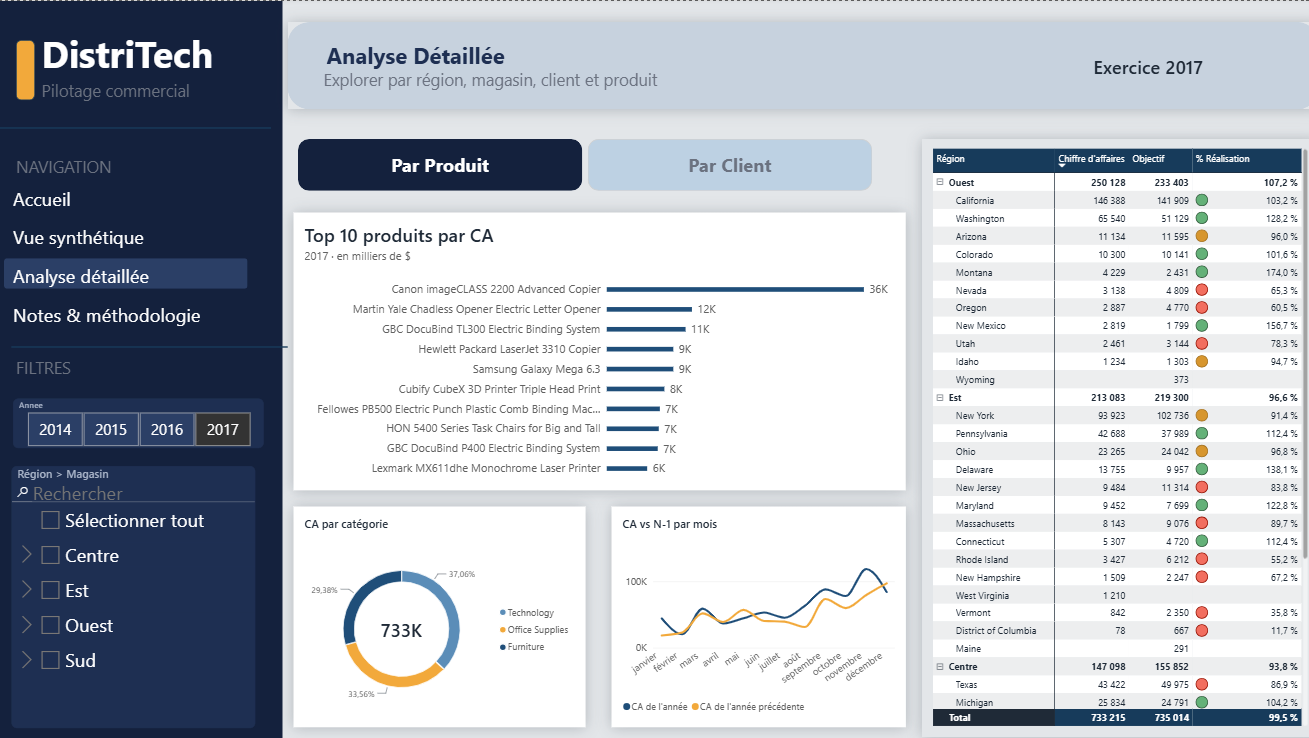

What the dashboard file says about the page in this screenshot:
{"tool":"powerbi","page":{"name":"Analyse détaillée","canvas":[1920,1080],"ordinal":2},"visuals":[{"type":"shape","box":[0,0,416.7,1080],"z":0,"group":"g1"},{"type":"group","id":"g1","title":" Barre latérale","box":[0,0,423.3,1080],"z":1000},{"type":"shape","box":[423.3,30,1496.7,126.7],"z":1500},{"type":"textbox","box":[66.7,40,296.7,93.3],"z":2000,"group":"g1"},{"type":"textbox","box":[476.1,98.9,582,43],"z":2000},{"type":"textbox","box":[481.1,55.9,360,50],"z":3000},{"type":"textbox","box":[67.5,112.5,265,42.5],"z":3000,"group":"g1"},{"type":"shape","box":[30.7,55.9,27.4,87.4],"z":4000,"group":"g1"},{"type":"slicer","fields":{"Values":["Dim_Magasins.Region","Dim_Magasins.Etat"]},"box":[23.3,673.3,353.3,380],"z":4000},{"type":"shape","box":[0,156.2,400,55.1],"z":5000,"group":"g1"},{"type":"textbox","box":[30,223.3,153.3,33.3],"z":6000,"group":"g1"},{"type":"clusteredBarChart","title":"Top 10 produits par CA","fields":{"Category":["Dim_Produits.Nom_Produit"],"Y":["_Mesures.CA_Total"]},"box":[432.5,307.5,887.5,402.5],"z":6000},{"type":"bookmarkNavigator","box":[440,200,832.5,75],"z":7000},{"type":"pageNavigator","box":[13.3,260,353.3,213.3],"z":7000,"group":"g1"},{"type":"pivotTable","fields":{"Rows":["Dim_Magasins.Region","Dim_Magasins.Etat"],"Values":["_Mesures.CA_Total","_Mesures.Objectif_CA_Total","_Mesures.Pct_Realisation"]},"box":[1343.3,200,576.7,866.7],"z":8000},{"type":"textbox","box":[30.7,516,160,42.5],"z":8000,"group":"g1"},{"type":"slicer","fields":{"Values":["Dim_Date.Annee"]},"box":[26.7,576.7,363.3,72],"z":9000,"group":"g1"},{"type":"donutChart","title":"CA par catégorie","fields":{"Category":["Dim_Produits.Categorie"],"Y":["_Mesures.CA_Total"]},"box":[433.3,733.3,423.3,320],"z":9000},{"type":"shape","box":[23.3,473.3,400,55.1],"z":10000,"group":"g1"},{"type":"lineChart","title":"CA vs N-1 par mois","fields":{"Category":["Dim_Date.Mois"],"Y":["_Mesures.CA_Total","_Mesures.CA_N_1"]},"box":[893.3,733.3,426.7,320],"z":10000},{"type":"cardVisual","fields":{"Data":["_Mesures.Contexte_Filtres"]},"box":[1576.7,56.7,226.7,76.7],"z":11000}]}

Visuals, with their boxes on the page's 1920x1080 design canvas (x1, y1, x2, y2). These are canvas units, not pixel positions in the 1309x738 screenshot, which may show the page scaled, cropped or inside an application window:
shape: (0,0,417,1080)
" Barre latérale" group: (0,0,423,1080)
shape: (423,30,1920,157)
textbox: (67,40,363,133)
textbox: (476,99,1058,142)
textbox: (481,56,841,106)
textbox: (68,112,332,155)
shape: (31,56,58,143)
slicer - Dim_Magasins.Region x Dim_Magasins.Etat: (23,673,377,1053)
shape: (0,156,400,211)
textbox: (30,223,183,257)
"Top 10 produits par CA" clusteredBarChart: (432,308,1320,710)
bookmarkNavigator: (440,200,1272,275)
pageNavigator: (13,260,367,473)
pivotTable - Dim_Magasins.Region x Dim_Magasins.Etat: (1343,200,1920,1067)
textbox: (31,516,191,558)
slicer - Dim_Date.Annee: (27,577,390,649)
"CA par catégorie" donutChart: (433,733,857,1053)
shape: (23,473,423,528)
"CA vs N-1 par mois" lineChart: (893,733,1320,1053)
cardVisual - _Mesures.Contexte_Filtres: (1577,57,1803,133)
